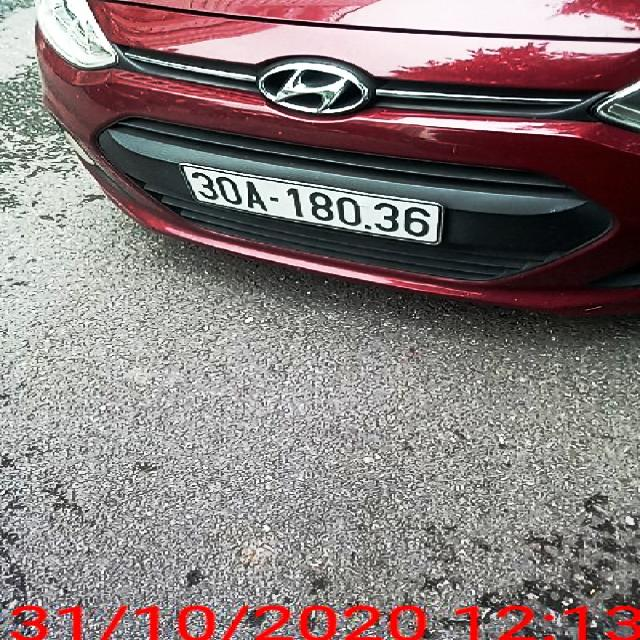license_plate: (184, 167, 443, 248)
